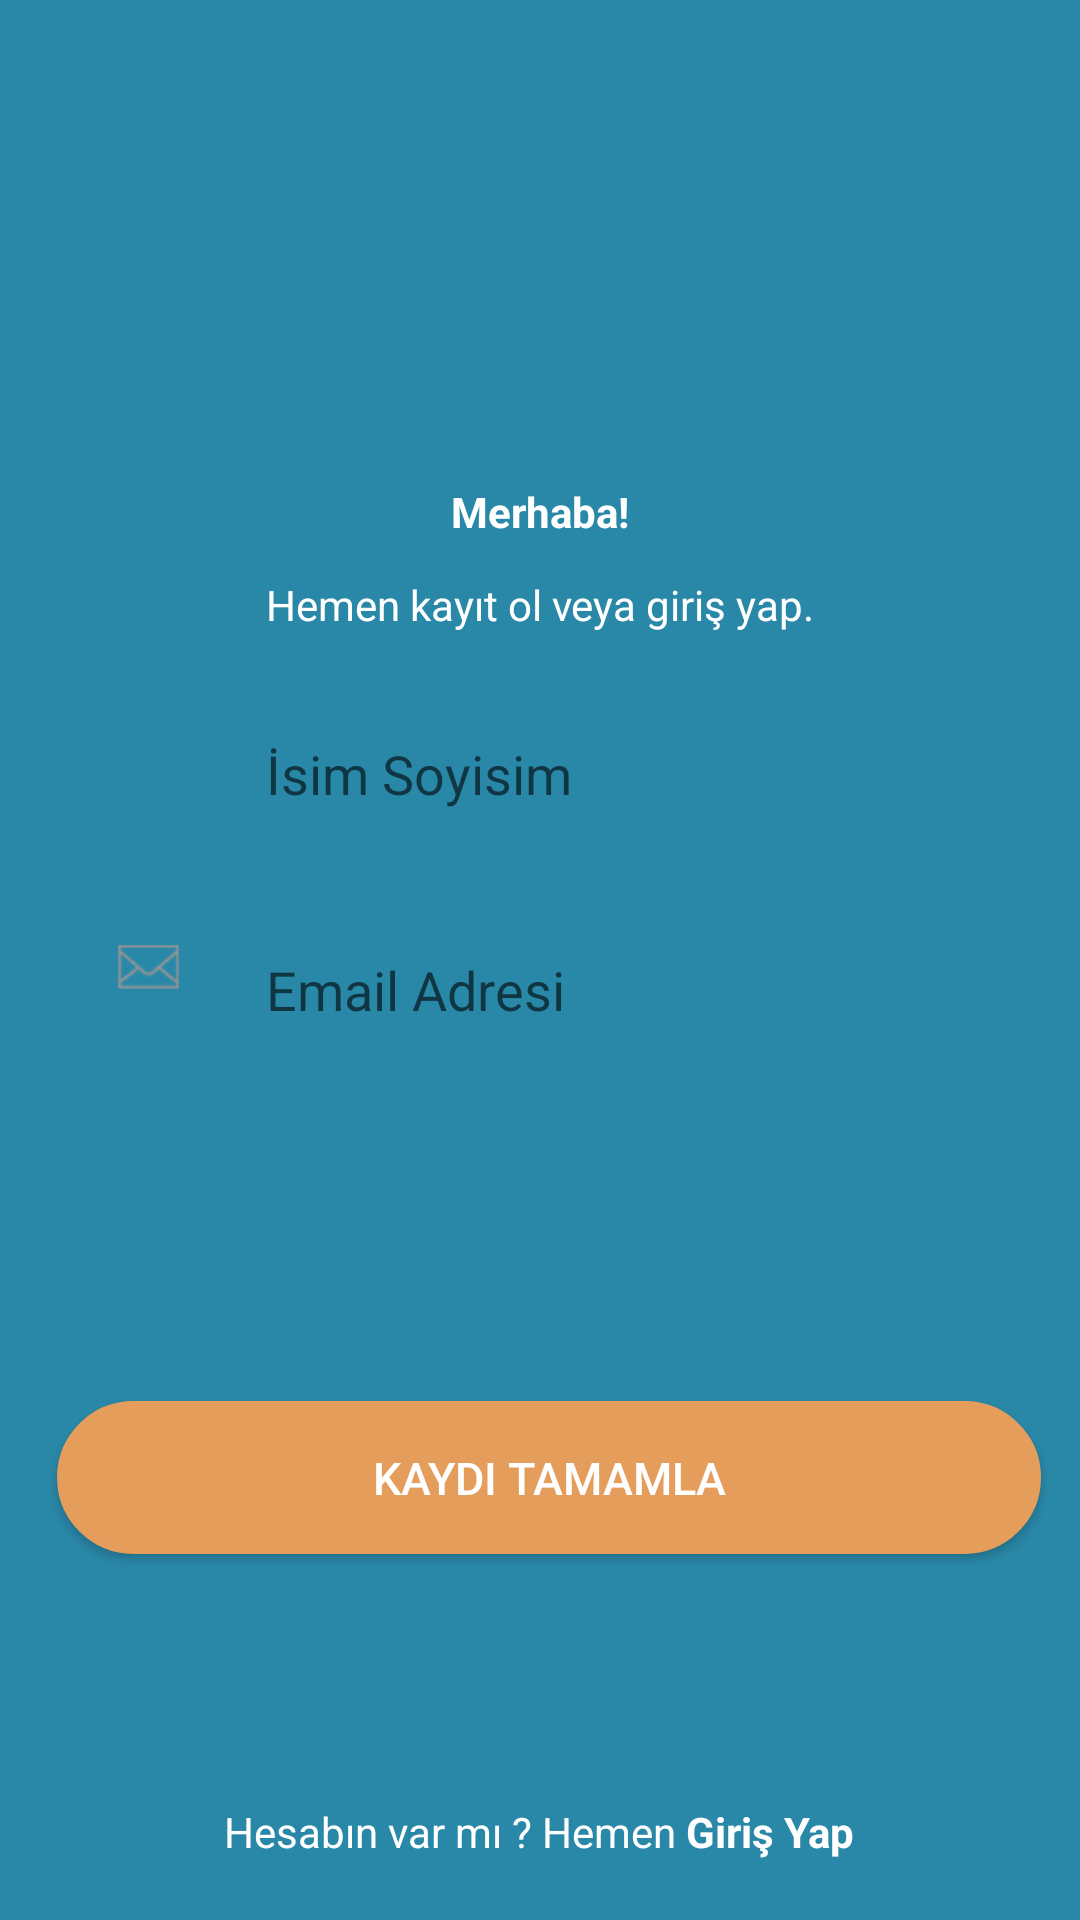

Icon bounding boxes for this 1080×1920 phone screenshot, format bbox=(x1, y1, x2, y2):
iconepost: bbox=(118, 945, 179, 989)
